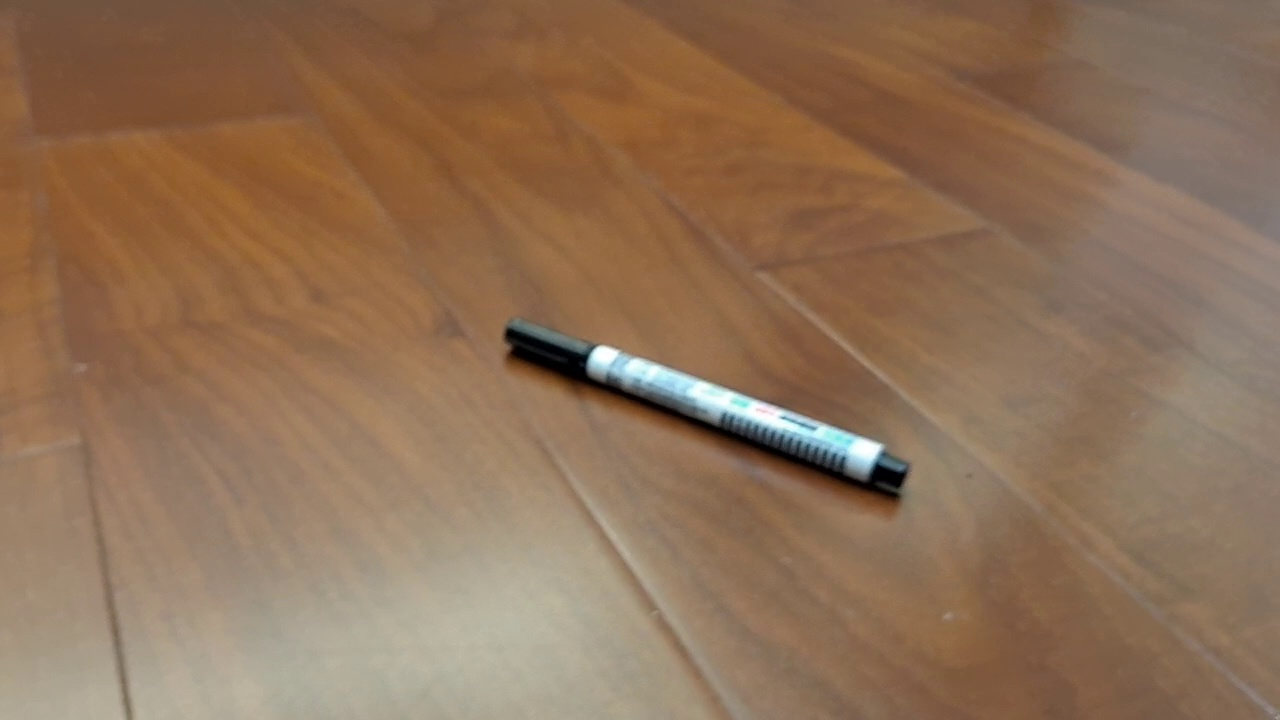pen: (503, 315, 912, 489)
